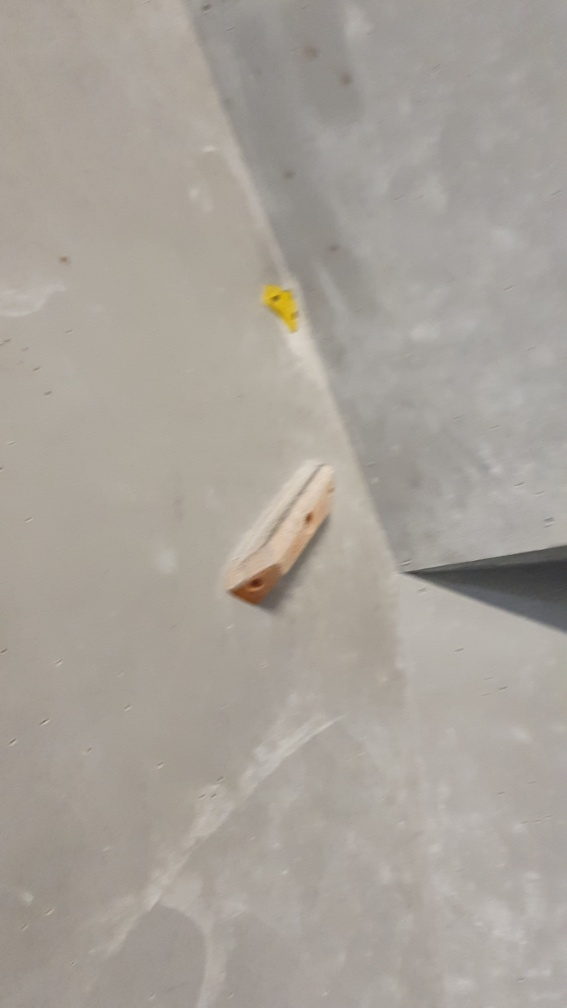Pinch: (220, 462, 338, 598)
